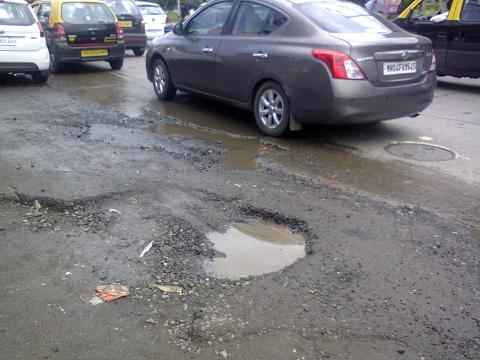pothole: (168, 202, 334, 302), (106, 110, 297, 185)
